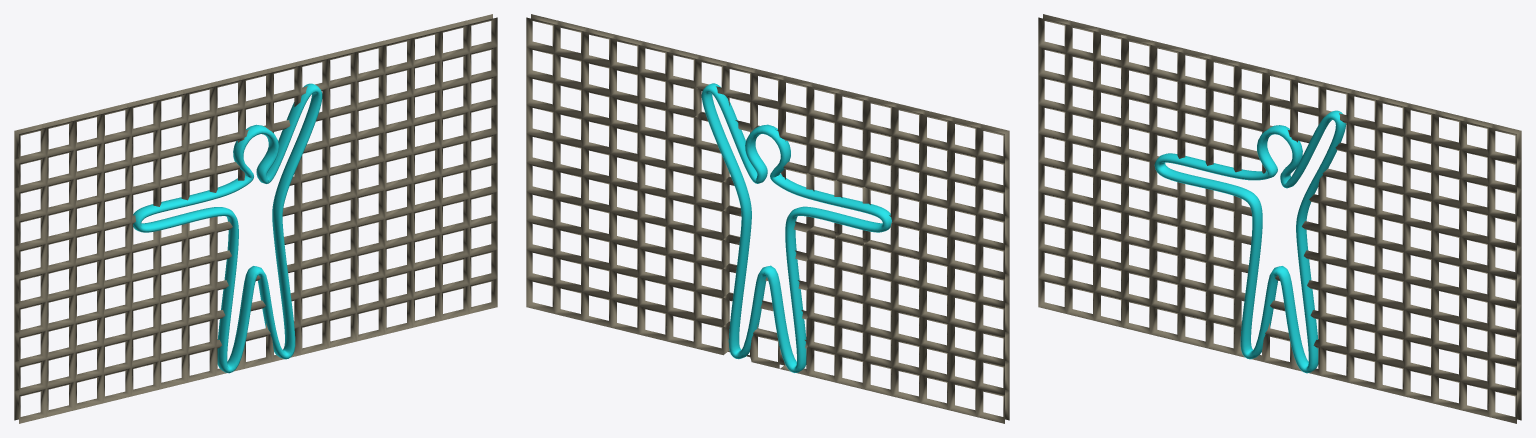
The model's file is [poo]_St2_Grid_35.fbx.
3 renders of one model, left to right at view 1: azimuth 30°, elevation 25°; view 2: azimuth 150°, elevation 25°; view 3: azimuth 330°, elevation 25°, orthographic.
Parts seen in each view (by area): view 1: Grid_35; view 2: Grid_35; view 3: Grid_35.
Part boxes in pixels (left/top/right/bottom): Grid_35: left=14, top=14, right=497, bottom=423; Grid_35: left=526, top=14, right=1009, bottom=423; Grid_35: left=1038, top=14, right=1521, bottom=423.
Size of the model in its own units: 1604 by 931 by 45.72.
